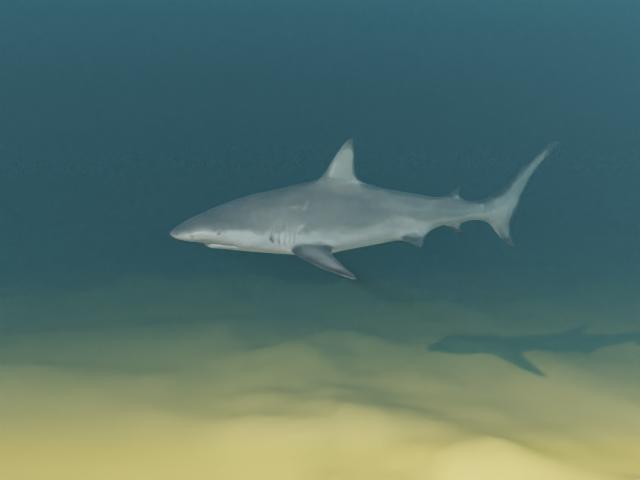Carribean Shark.001: (169, 138, 559, 279)
